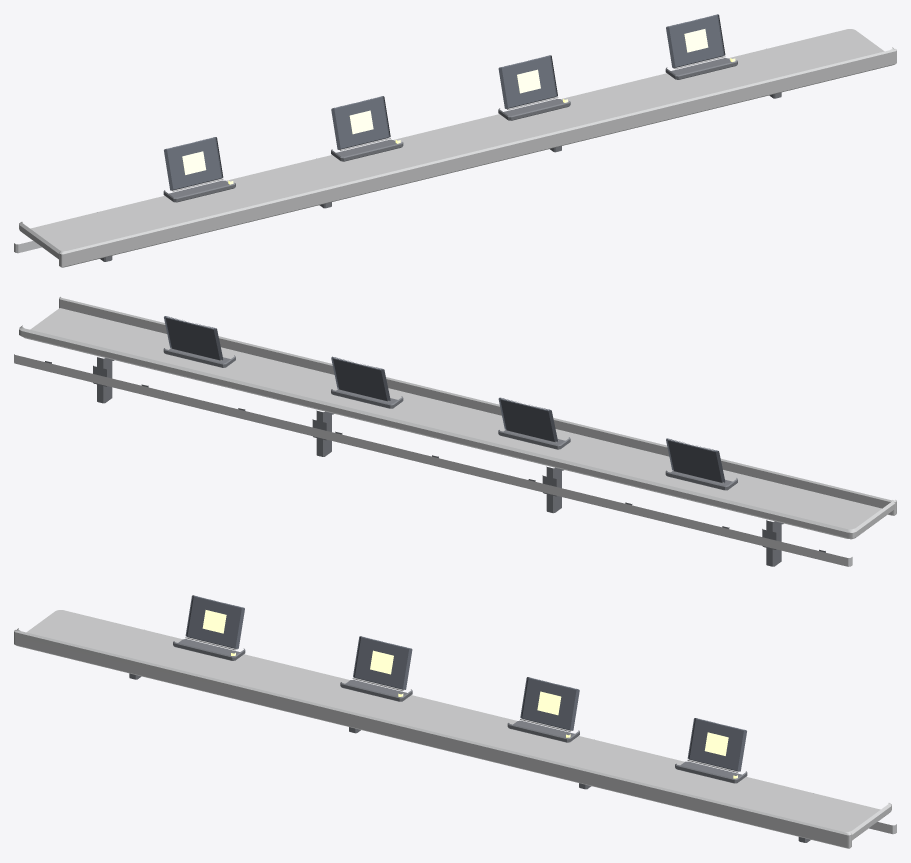
The model's file is window_desk_cantilever_slab.glb.
3 renders of one model, top to bottom at view 1: azimuth 30°, elevation 25°; view 2: azimuth 150°, elevation 25°; view 3: azimuth 330°, elevation 25°, orthographic.
Visible parts, largest first — view 1: Desk_Slab, Front_Lip, Data_Slates, Slate_Cradles, Slate_Glyphs; view 2: Desk_Slab, Wall_Rail, Front_Lip, Data_Slates, Slate_Cradles, Brackets, Bracket_Clamps; view 3: Desk_Slab, Front_Lip, Data_Slates, Slate_Cradles, Slate_Glyphs.
Boxes of the visible parts, x1,y1,x2,y2 form: Desk_Slab: (19,29,894,259); Front_Lip: (59,49,896,267); Data_Slates: (164,14,725,190); Slate_Cradles: (163,58,737,202); Slate_Glyphs: (182,29,708,174); Desk_Slab: (19,308,895,539); Wall_Rail: (14,354,852,566); Front_Lip: (59,297,896,515); Data_Slates: (164,316,725,482); Slate_Cradles: (163,348,737,490); Brackets: (97,357,783,566); Bracket_Clamps: (93,365,780,550); Desk_Slab: (16,610,891,840); Front_Lip: (14,630,851,848); Data_Slates: (185,595,746,771); Slate_Cradles: (173,639,747,783); Slate_Glyphs: (202,610,728,755).
Bounding box in the file's own units: 4 × 0.4405 × 0.4.
